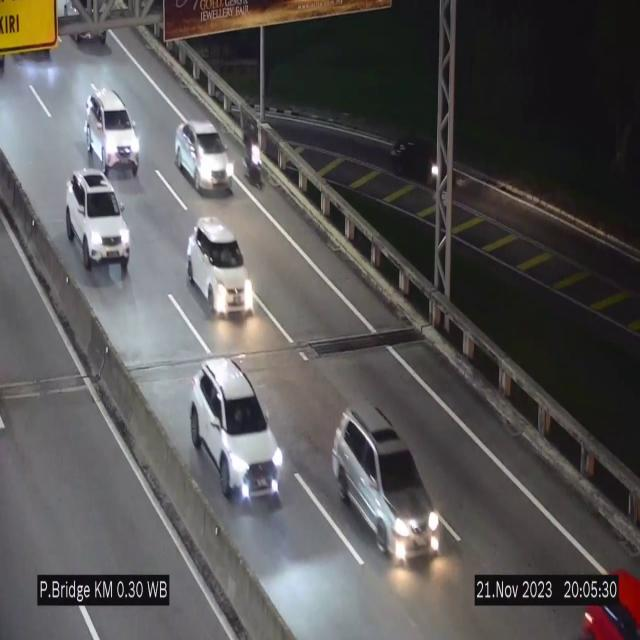Car: (332, 404, 440, 558), (191, 358, 283, 504), (66, 171, 130, 273), (186, 218, 252, 314), (87, 90, 139, 175), (174, 120, 233, 194)
Motorcycle: (242, 119, 266, 189)
